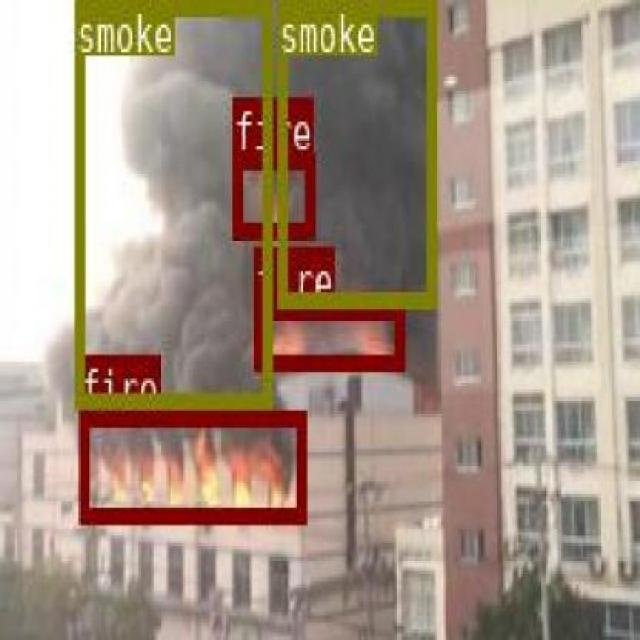Fire: (79, 408, 304, 522), (253, 301, 402, 368), (230, 149, 312, 237)
Smoke: (73, 0, 270, 408), (276, 1, 435, 302)
